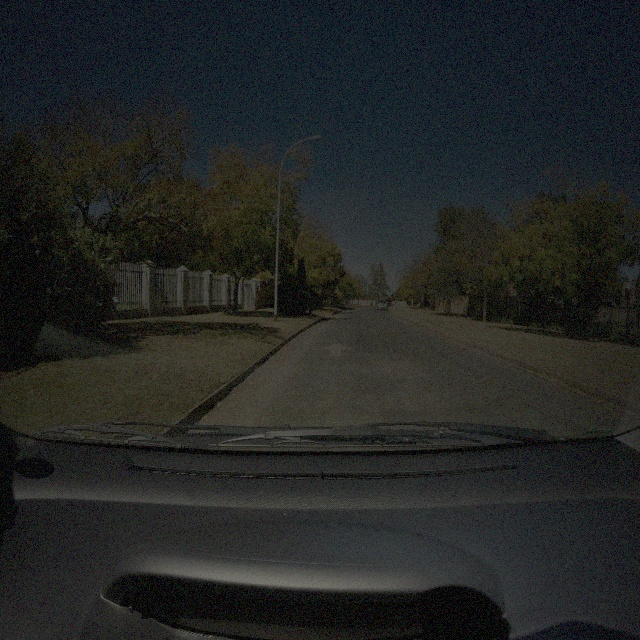pothole: (389, 363, 410, 377)
